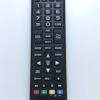remote control: (29, 1, 67, 100)
